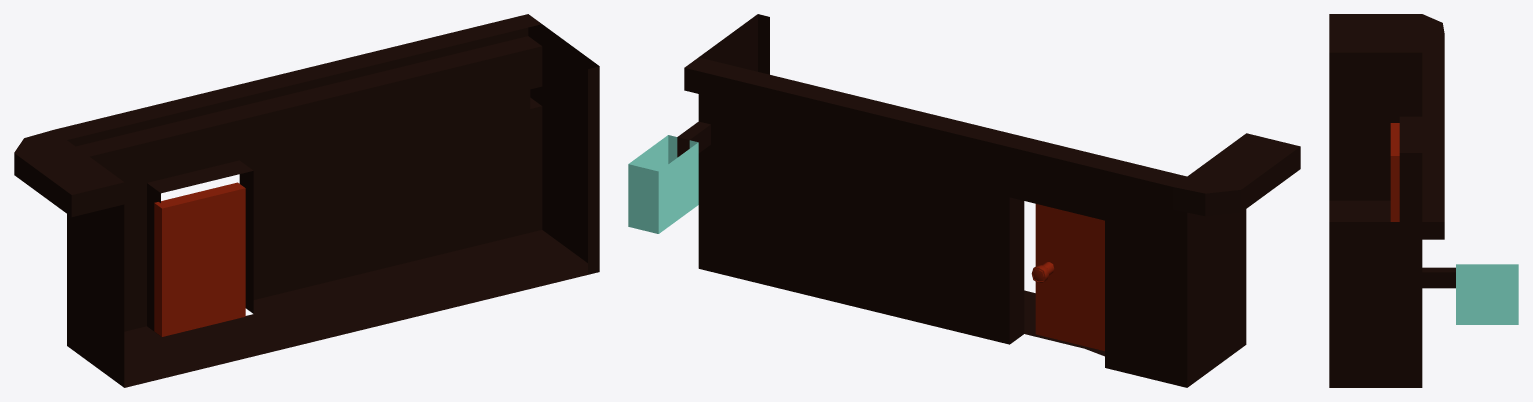
Rendered from myhome@in_open_s.FBX.
The picture shows the model from 3 angles, left to right: view 1: azimuth 30°, elevation 25°; view 2: azimuth 150°, elevation 25°; view 3: azimuth 270°, elevation 25°; orthographic projection. The views are drawn at different scales.
Parts seen in each view (by area): view 1: Box001, Object001; view 2: Box001, Object001; view 3: Box001, Object001.
Part boxes in pixels (<box>): Box001: <box>14,14,599,387</box>; Object001: <box>154,182,245,336</box>; Box001: <box>628,14,1300,387</box>; Object001: <box>1031,204,1104,351</box>; Box001: <box>1329,14,1518,387</box>; Object001: <box>1390,123,1399,221</box>.
Bounding box in the file's own units: 87.9 × 32.19 × 33.25.
